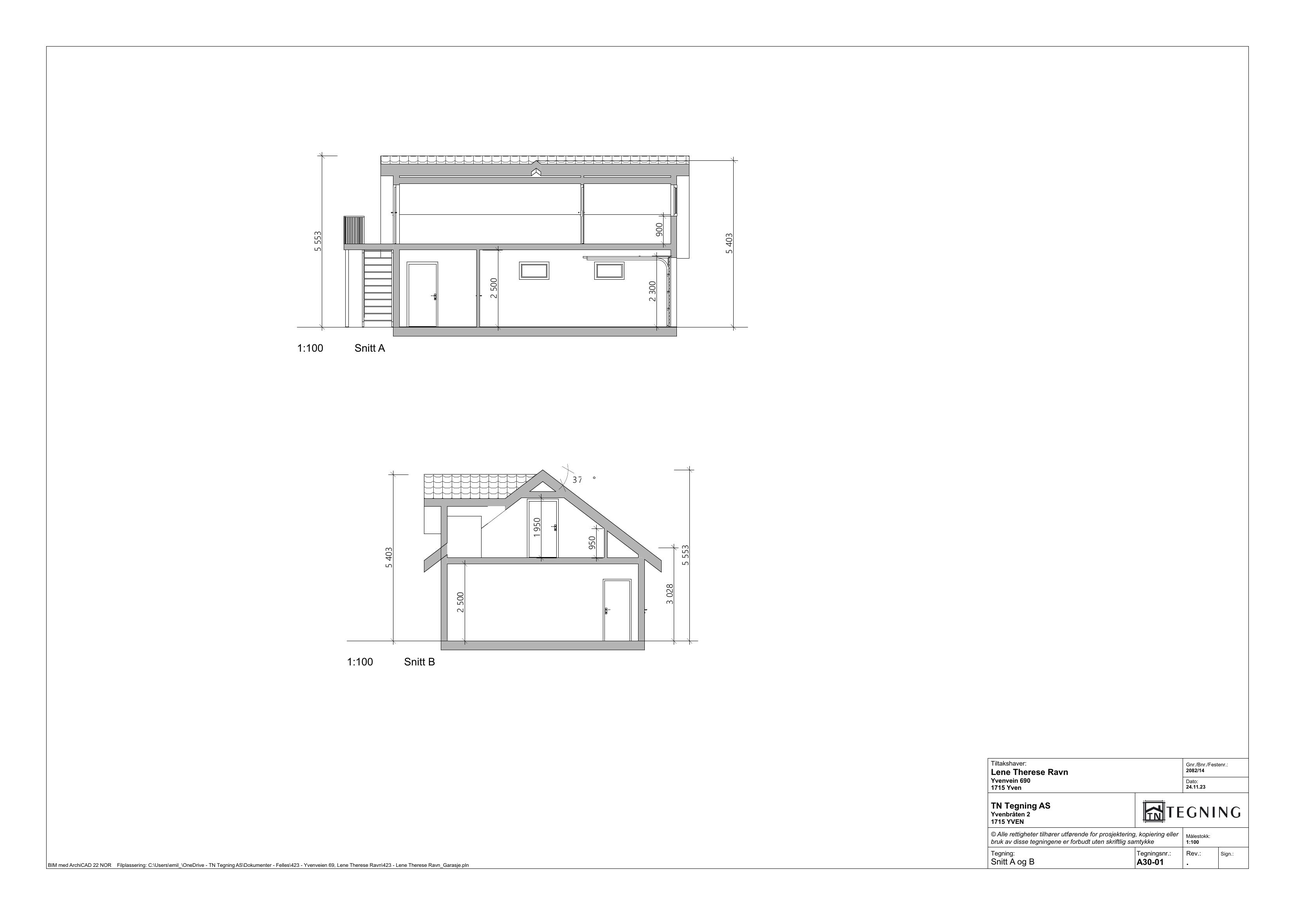snitt: (343, 155, 690, 338), (424, 470, 661, 651)
